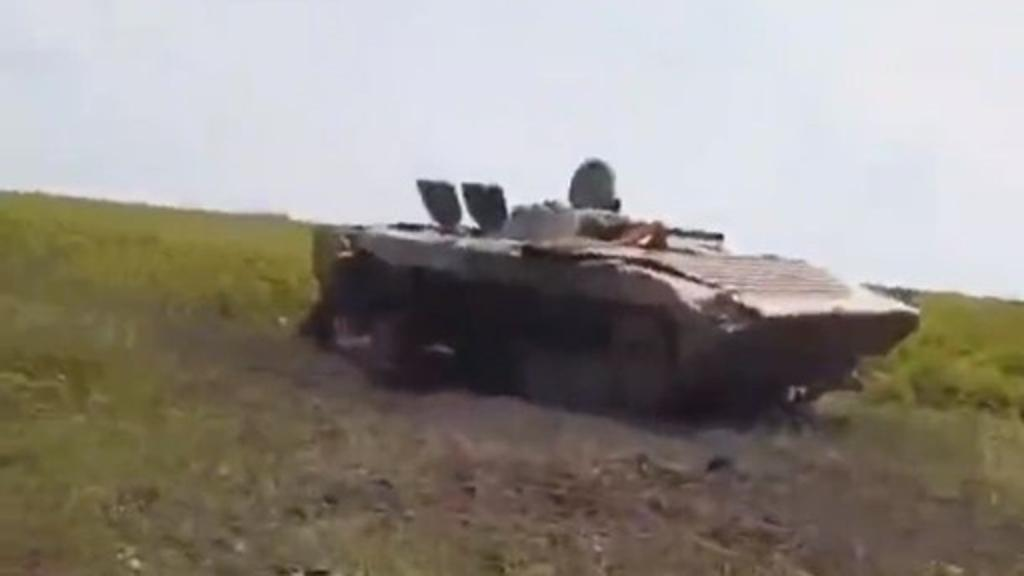APC-IFV: (308, 168, 920, 426)
